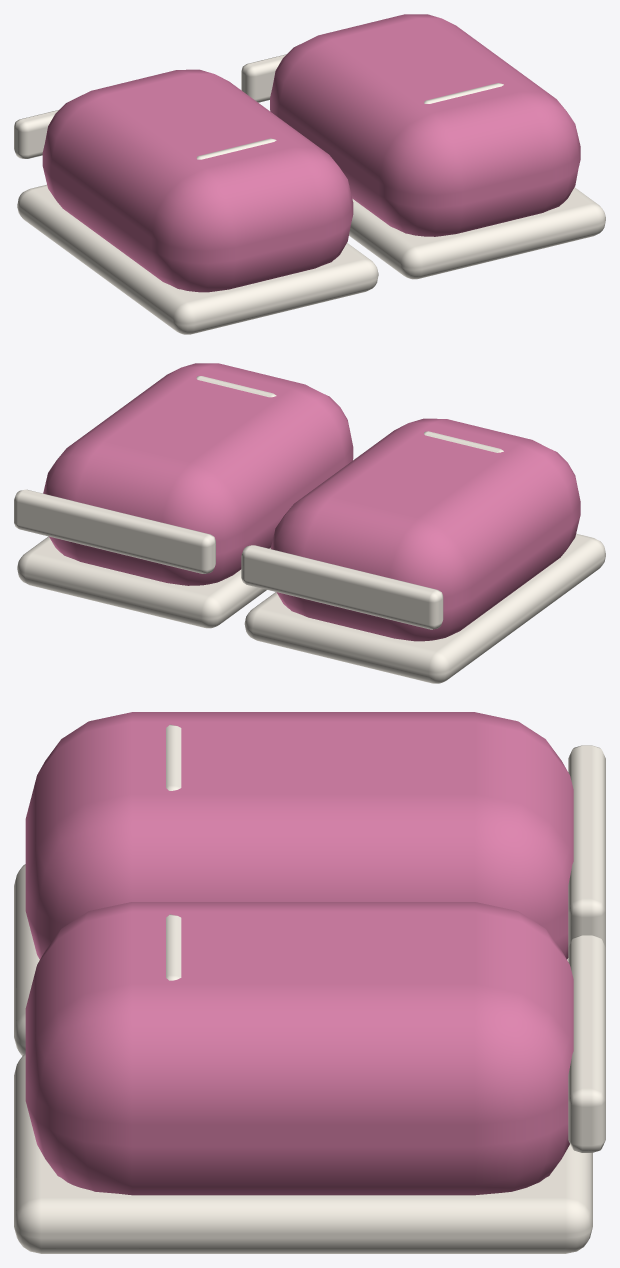
File: faux_suede_sneakers.glb
3 views of the same model, one above another, from view 1: azimuth 30°, elevation 25°; view 2: azimuth 150°, elevation 25°; view 3: azimuth 270°, elevation 25° (orthographic). The views are drawn at different scales.
Parts seen in each view (by area): view 1: faux_suede_sneakers_LegL, faux_suede_sneakers_LegR; view 2: faux_suede_sneakers_LegL, faux_suede_sneakers_LegR; view 3: faux_suede_sneakers_LegR, faux_suede_sneakers_LegL.
Boxes of the visible parts, left/top/right/bottom form: faux_suede_sneakers_LegL: left=14, top=69, right=378, bottom=334; faux_suede_sneakers_LegR: left=241, top=14, right=605, bottom=279; faux_suede_sneakers_LegL: left=241, top=418, right=605, bottom=683; faux_suede_sneakers_LegR: left=14, top=363, right=353, bottom=628; faux_suede_sneakers_LegR: left=14, top=902, right=605, bottom=1253; faux_suede_sneakers_LegL: left=14, top=712, right=605, bottom=1055.
Bounding box in the file's own units: 0.36 × 0.1087 × 0.2505.
